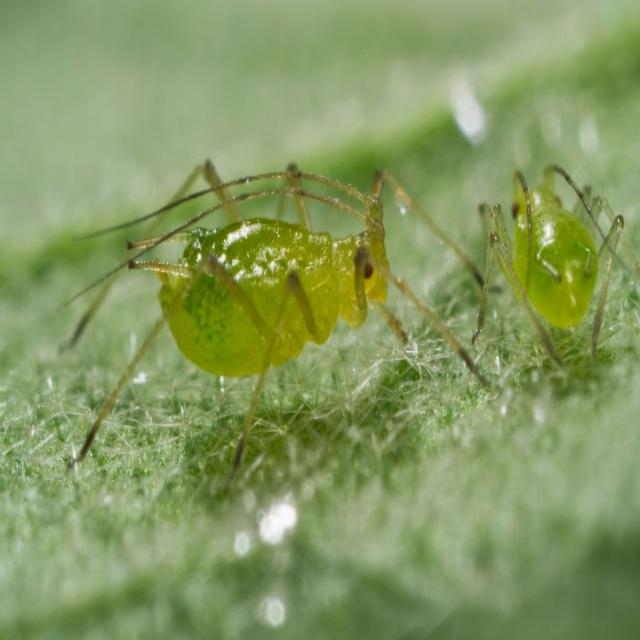Aphid-Grown-: (61, 136, 447, 430), (480, 151, 630, 380)
